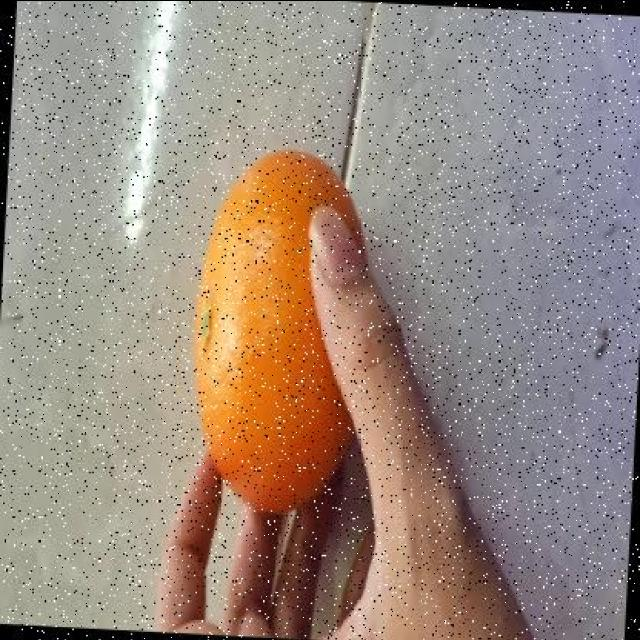Orange: (190, 148, 362, 516)
